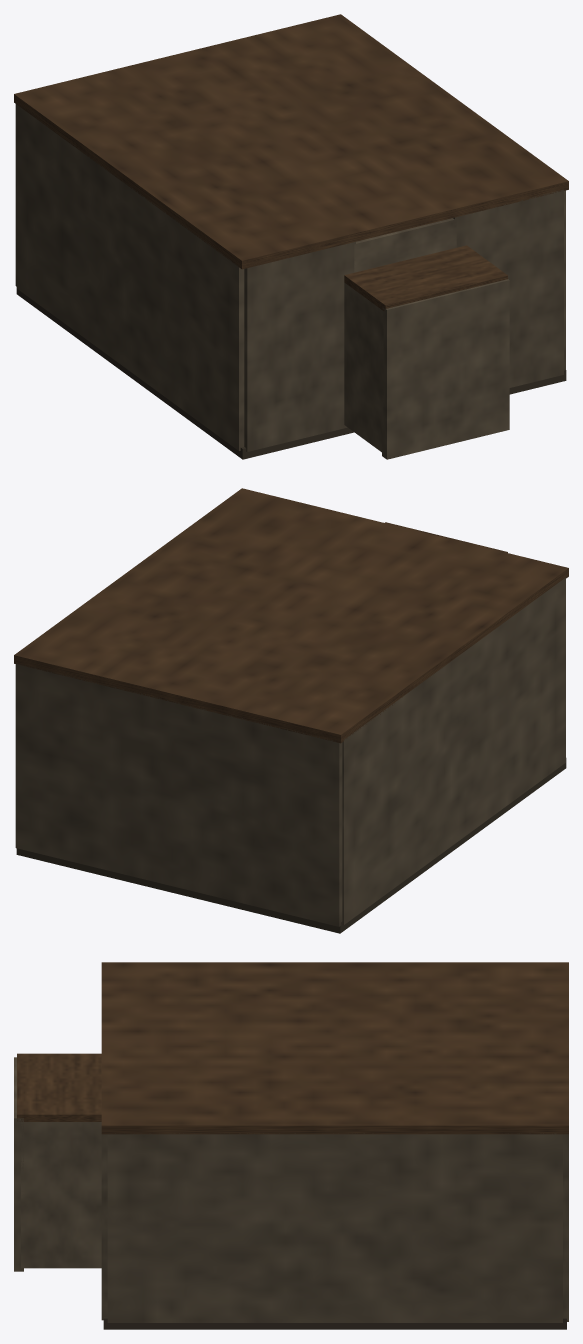
Rendered from bronze_bell_hall_v2.3.0.glb.
3 views of the same model, one above another, from view 1: azimuth 30°, elevation 25°; view 2: azimuth 150°, elevation 25°; view 3: azimuth 270°, elevation 25° (orthographic). The views are drawn at different scales.
Parts seen in each view (by area): view 1: Ceiling, Side plaster wall, Vestibule end wall, Entrance wall, Entrance wall.001, Vestibule roof, Vestibule wall, Entrance lintel wall, Continuous floor; view 2: Ceiling, Rear plaster wall, Side plaster wall, Continuous floor; view 3: Side plaster wall.001, Ceiling, Vestibule wall.001, Vestibule roof, Continuous floor, Vestibule end wall, Entrance wall.001, Rear plaster wall.
Part boxes in pixels (<box>): Ceiling: <box>14,14,568,269</box>; Side plaster wall: <box>17,105,244,450</box>; Vestibule end wall: <box>382,279,509,459</box>; Entrance wall: <box>244,241,355,451</box>; Entrance wall.001: <box>453,189,563,387</box>; Vestibule roof: <box>344,245,507,310</box>; Vestibule wall: <box>344,282,383,453</box>; Entrance lintel wall: <box>354,218,456,272</box>; Continuous floor: <box>16,287,566,459</box>; Ceiling: <box>14,488,568,743</box>; Rear plaster wall: <box>15,663,342,926</box>; Side plaster wall: <box>342,577,565,924</box>; Continuous floor: <box>16,758,566,933</box>; Side plaster wall.001: <box>107,1133,562,1322</box>; Ceiling: <box>101,962,568,1134</box>; Vestibule wall.001: <box>21,1122,101,1268</box>; Vestibule roof: <box>17,1053,101,1121</box>; Continuous floor: <box>103,1317,566,1329</box>; Vestibule end wall: <box>14,1057,23,1271</box>; Entrance wall.001: <box>101,1134,107,1320</box>; Rear plaster wall: <box>563,1134,568,1321</box>.
Bounding box in the file's own units: 9.6 × 5.61 × 13.78.
98 materials, 98 textured.
